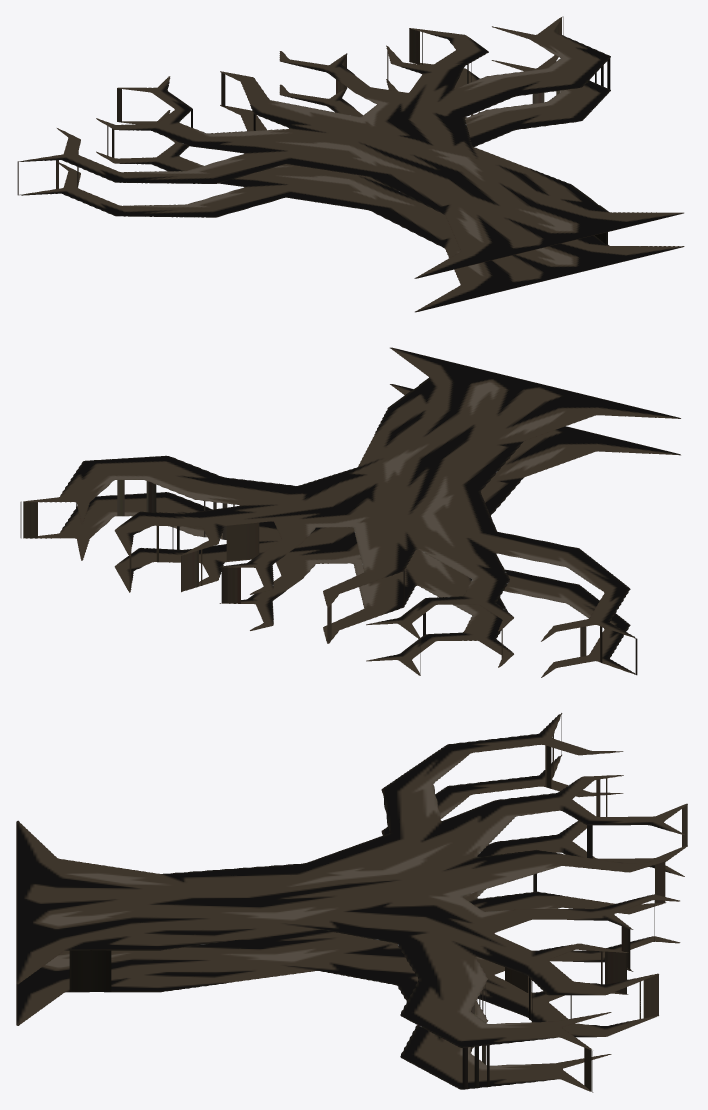
Rendered from tree.fbx.
The picture shows the model from 3 angles, top to bottom: view 1: azimuth 30°, elevation 25°; view 2: azimuth 150°, elevation 25°; view 3: azimuth 270°, elevation 25°; orthographic projection. The views are drawn at different scales.
Parts seen in each view (by area): view 1: Tree; view 2: Tree; view 3: Tree.
Boxes of the visible parts, x1,y1,x2,y2 form: Tree: [17, 16, 684, 312]; Tree: [20, 347, 680, 677]; Tree: [16, 713, 687, 1092].
Size of the model in its own units: 120 by 6.77 by 100.
